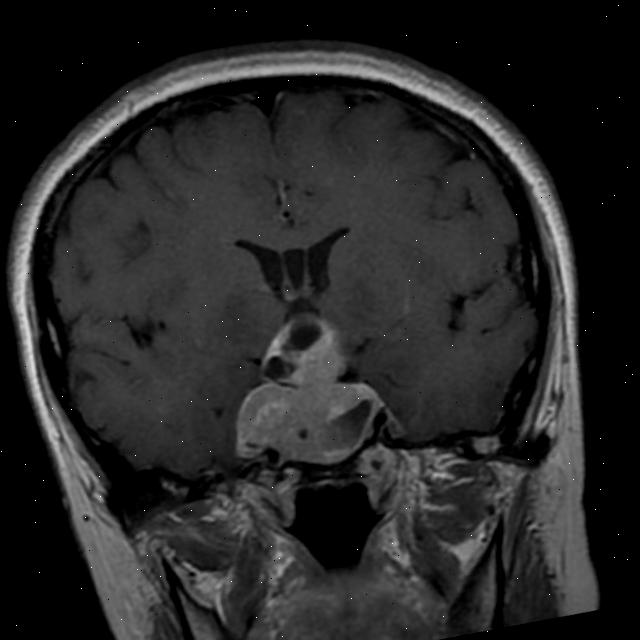Pituitary: (217, 352, 400, 493), (245, 302, 352, 389)
